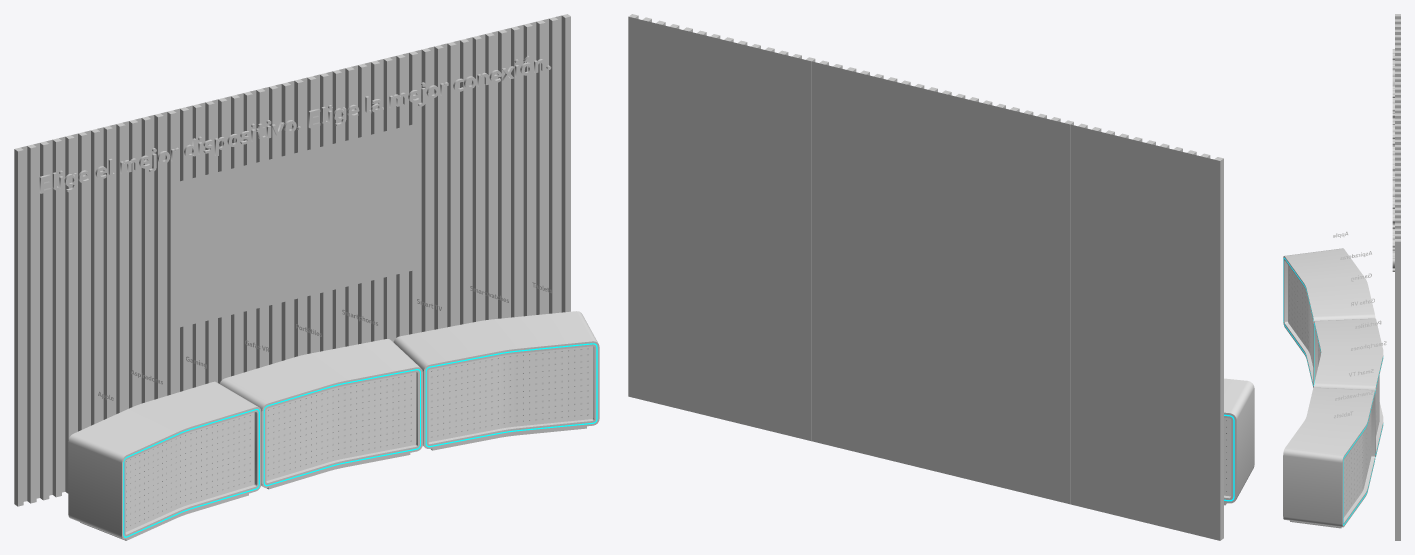
File: SM_Devices.fbx
3 views of the same model, side by side, from view 1: azimuth 30°, elevation 25°; view 2: azimuth 150°, elevation 25°; view 3: azimuth 270°, elevation 25° (orthographic). The views are drawn at different scales.
Parts seen in each view (by area): view 1: Cube.002, Plane.001, Screen, Counters_front, Counters_body, Title, Counters_blueLight, Counters_whiteLight; view 2: Plane.001, Cube.002, Counters_body; view 3: Counters_body, Counters_front, Cube.002, Title, Counters_blueLight.
Part boxes in pixels (<box>): Cube.002: <box>14,14,570,506</box>; Plane.001: <box>20,15,561,501</box>; Screen: <box>170,123,418,329</box>; Counters_front: <box>125,346,593,531</box>; Counters_body: <box>68,311,599,539</box>; Title: <box>39,56,551,193</box>; Counters_blueLight: <box>123,343,597,537</box>; Counters_whiteLight: <box>80,426,586,540</box>; Plane.001: <box>635,18,1213,539</box>; Cube.002: <box>628,14,1223,540</box>; Counters_body: <box>1224,378,1254,503</box>; Counters_body: <box>1283,248,1383,527</box>; Counters_front: <box>1288,265,1379,517</box>; Cube.002: <box>1395,14,1400,540</box>; Title: <box>1392,49,1394,271</box>; Counters_blueLight: <box>1283,257,1383,525</box>.
Bounding box in the file's own units: 652 × 400 × 142.
